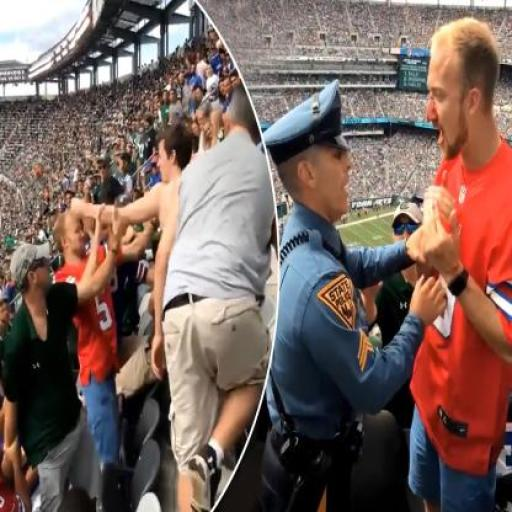Fighting: (263, 17, 512, 512), (3, 131, 193, 511)
